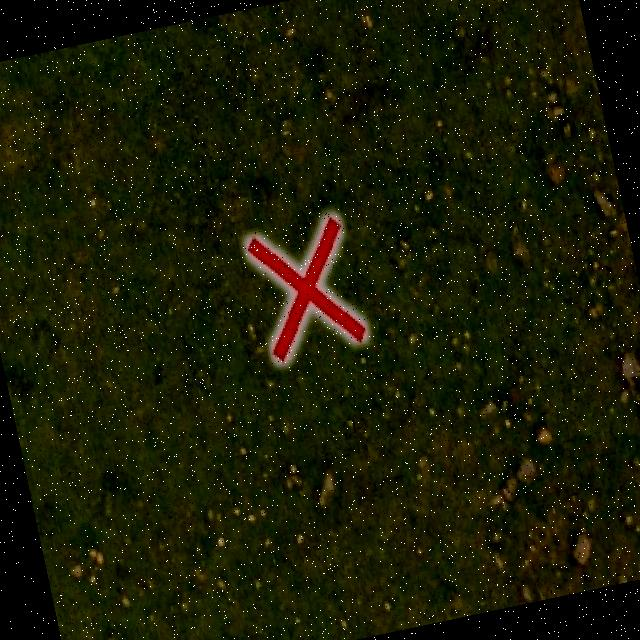x_marker: (244, 214, 366, 362)
